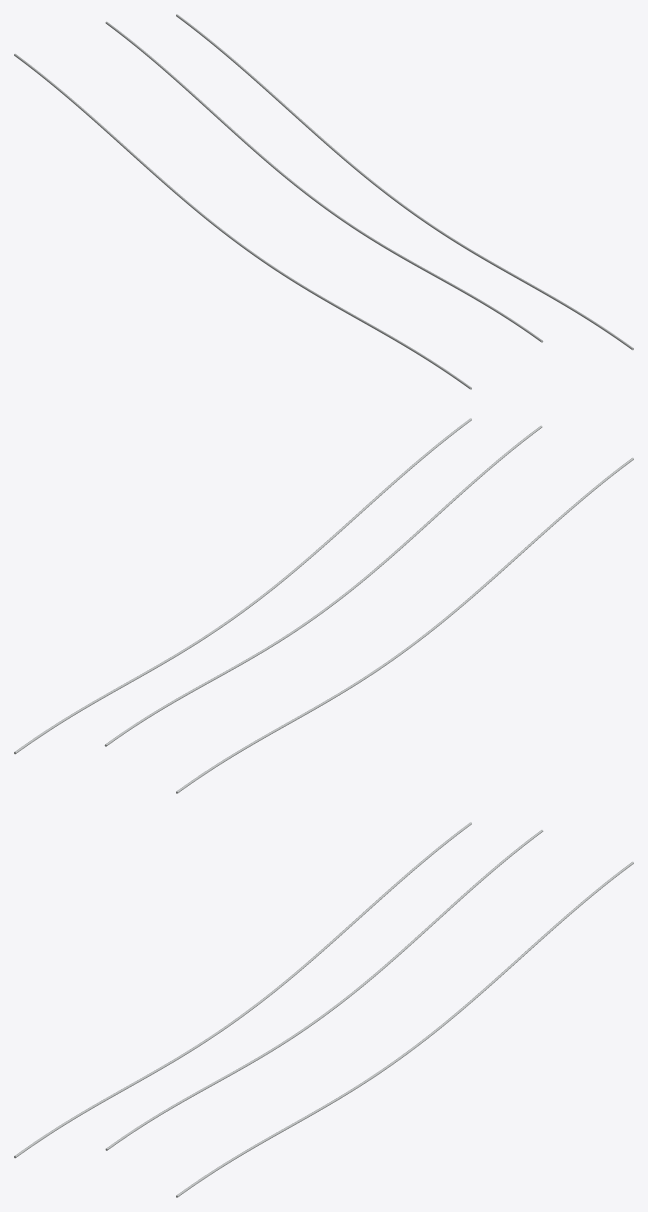
Rendered from wires.glb.
3 views of the same model, one above another, from view 1: azimuth 30°, elevation 25°; view 2: azimuth 150°, elevation 25°; view 3: azimuth 330°, elevation 25° (orthographic).
Visible parts, largest first — view 1: pCylinder85, pCylinder94, pCylinder93; view 2: pCylinder85, pCylinder94, pCylinder93; view 3: pCylinder94, pCylinder85, pCylinder93.
Part boxes in pixels (x1,y1,x2,y2): pCylinder85: (176,14,633,350); pCylinder94: (14,53,471,389); pCylinder93: (105,21,543,342); pCylinder85: (14,418,471,754); pCylinder94: (176,457,633,793); pCylinder93: (104,425,542,746); pCylinder94: (14,822,471,1158); pCylinder85: (176,861,633,1197); pCylinder93: (105,830,543,1150).
Size of the model in its own units: 0.1028 by 0.0281 by 0.4954.
Materials: 1 (1 with a texture image).
